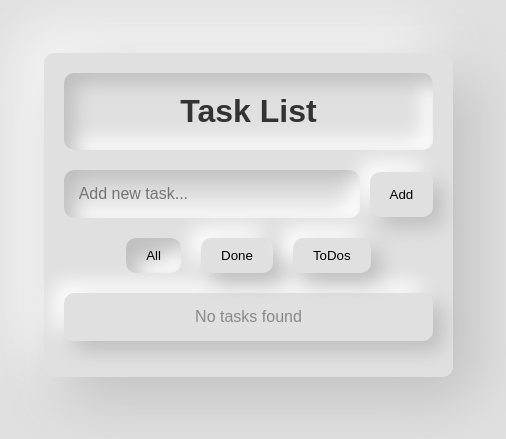
it: TodoApp Component › can add a new task
In the field: (212, 194) [64,170,360,218], type "New Task"
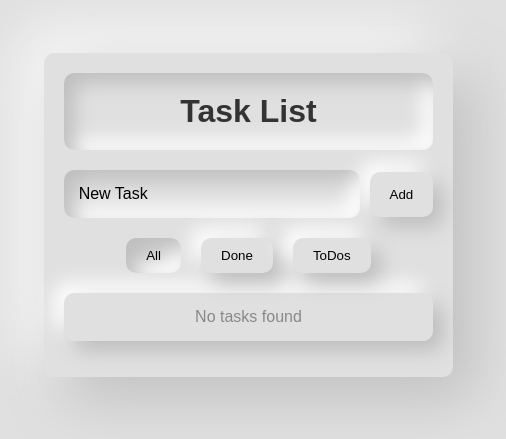
Click the button "Add": (401, 194) [370,172,433,216]
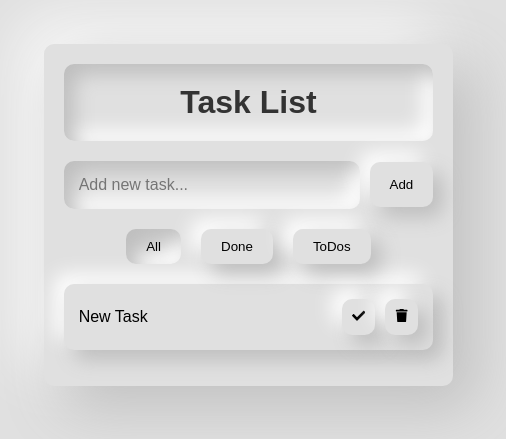
expect the text "New Task" is shown: met, box [79,308,148,326]
